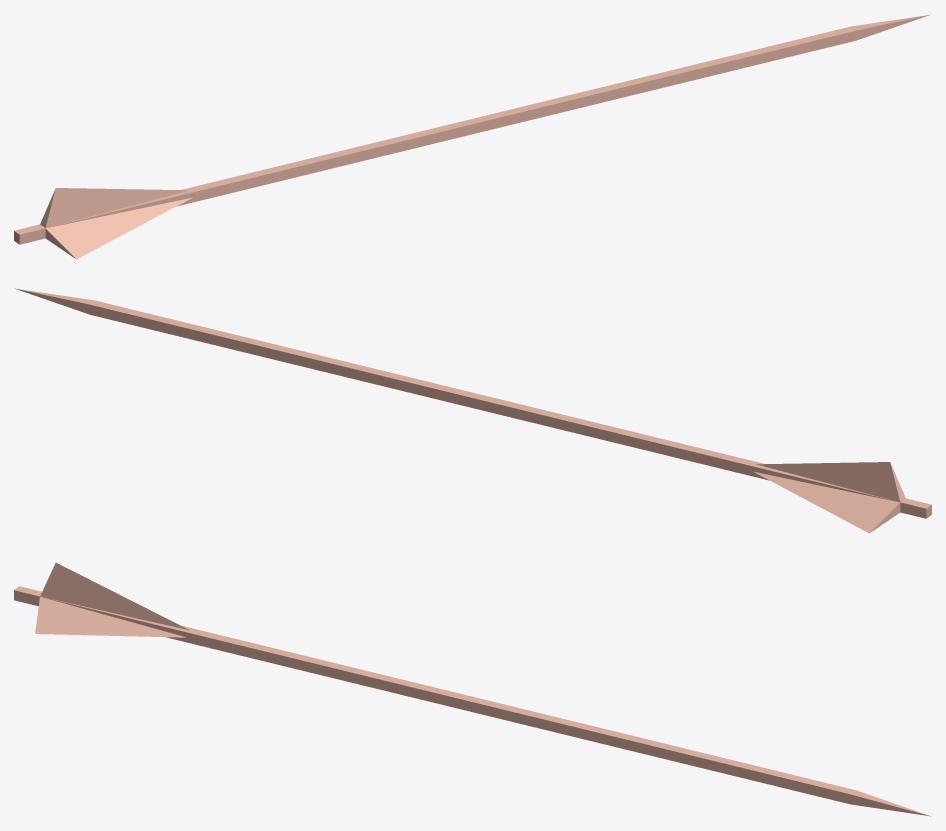
Rendered from basicarrow.gltf.
The picture shows the model from 3 angles, top to bottom: view 1: azimuth 30°, elevation 25°; view 2: azimuth 150°, elevation 25°; view 3: azimuth 330°, elevation 25°; orthographic projection.
Parts seen in each view (by area): view 1: basicarrow; view 2: basicarrow; view 3: basicarrow.
Boxes of the visible parts, box(x1,y1,x2,y2) form: basicarrow: box(14, 14, 930, 259); basicarrow: box(15, 288, 931, 533); basicarrow: box(14, 562, 930, 816).
Bounding box in the file's own units: 1.44 × 0.0848 × 0.1131.
